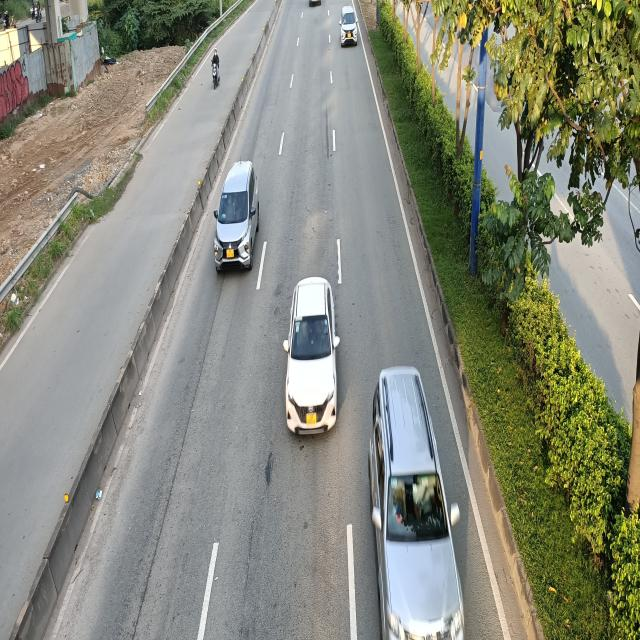car: (366, 366, 468, 640), (285, 278, 343, 436), (212, 162, 258, 272), (341, 4, 360, 44)
